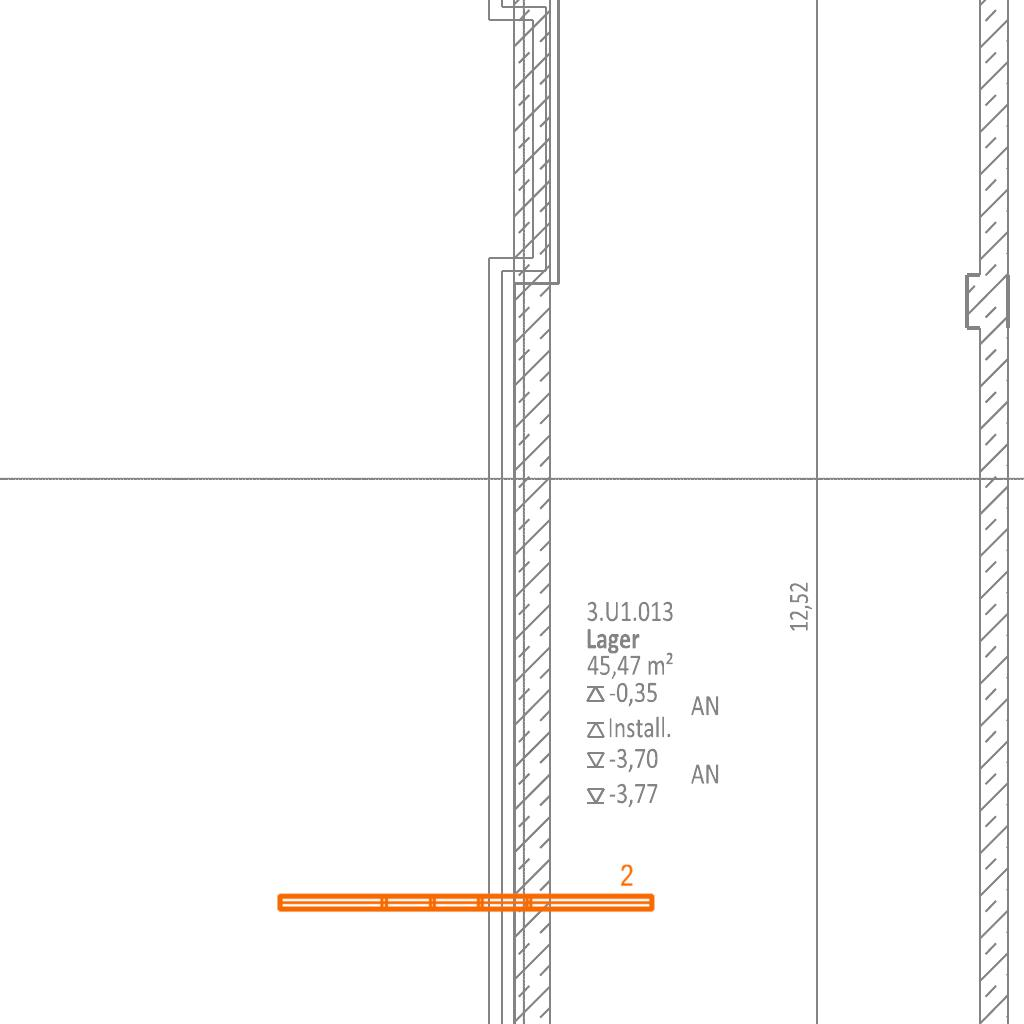Ambulanz_Pendelleuchte_LED: (272, 862, 659, 918)
